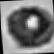correct: (4, 7, 54, 53)
